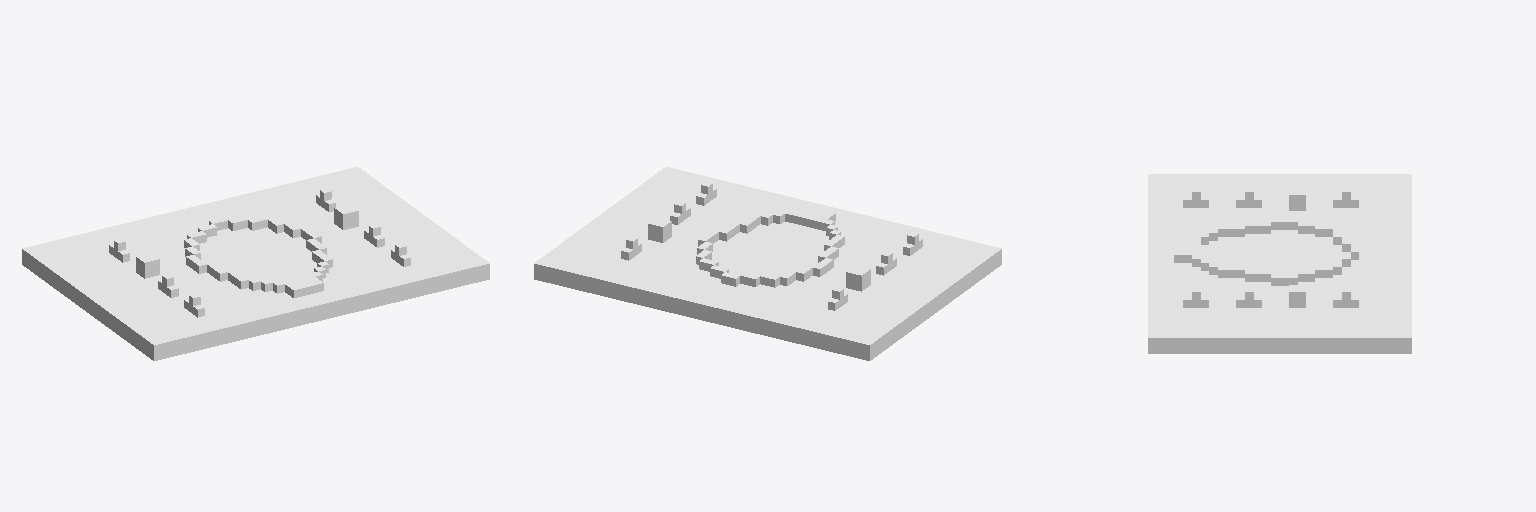
The model's file is diamonds1.obj.
3 views of the same model, side by side, from view 1: azimuth 30°, elevation 25°; view 2: azimuth 150°, elevation 25°; view 3: azimuth 270°, elevation 25° (orthographic).
Visible parts, largest first — view 1: object 1; view 2: object 1; view 3: object 1.
Boxes of the visible parts, x1=… form: object 1: x1=22, y1=167, x2=489, y2=360; object 1: x1=534, y1=167, x2=1001, y2=360; object 1: x1=1148, y1=174, x2=1411, y2=353.
Size of the model in its own units: 4.4 by 0.4 by 3.